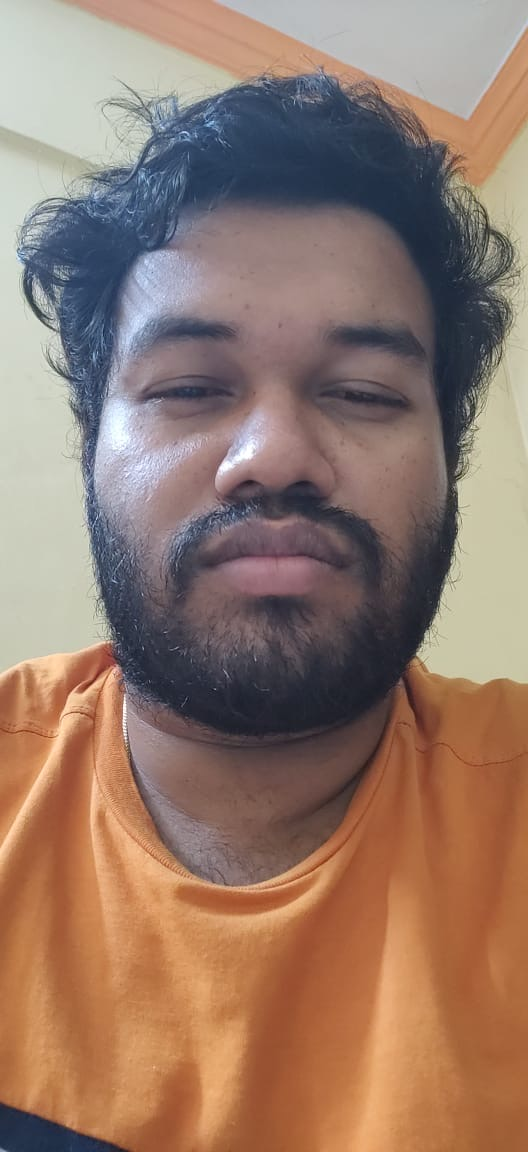Half Asleep: (119, 349, 442, 440)
